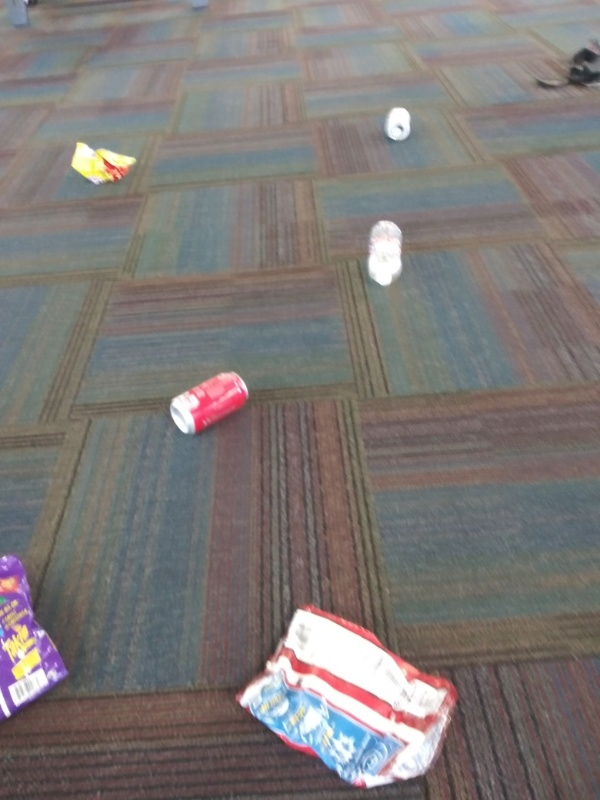bag: (226, 601, 465, 791), (1, 550, 76, 735), (66, 139, 140, 186)
bottle: (362, 218, 411, 293)
can: (165, 368, 252, 442), (381, 102, 418, 146)
